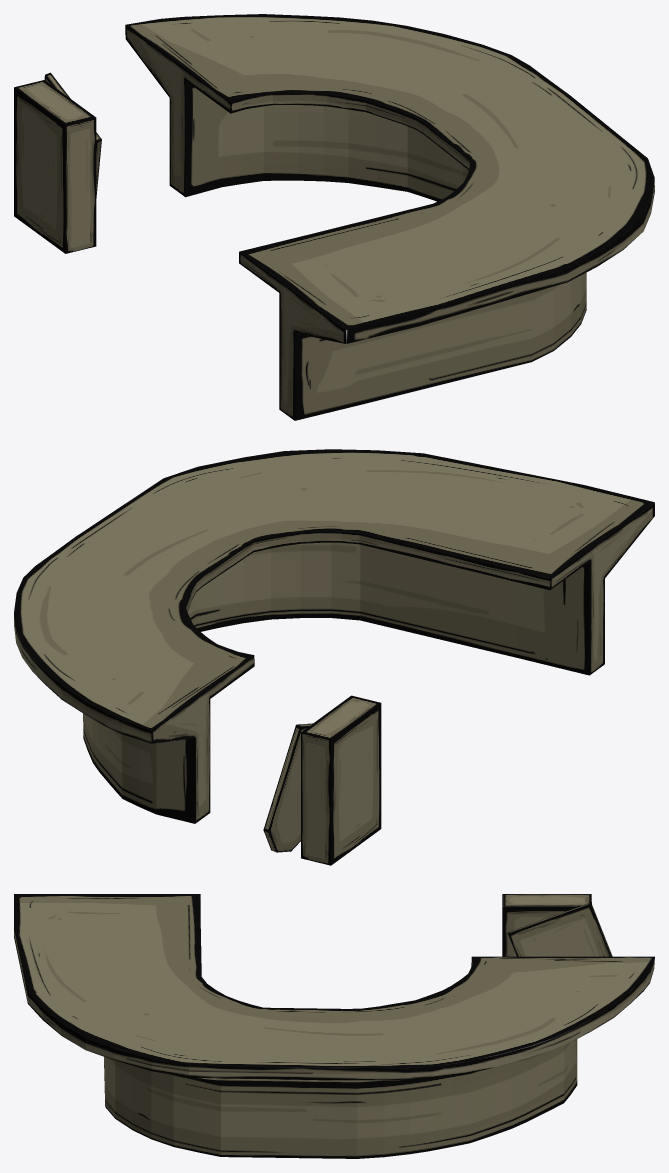
File: desk.fbx
3 renders of one model, top to bottom at view 1: azimuth 30°, elevation 25°; view 2: azimuth 150°, elevation 25°; view 3: azimuth 270°, elevation 25°, orthographic. The views are drawn at different scales.
Visible parts, largest first — view 1: Circle; view 2: Circle; view 3: Circle.
Boxes of the visible parts, x1,y1,x2,y2 form: Circle: (14,14,654,420); Circle: (14,449,654,865); Circle: (14,894,654,1158).
Bounding box in the file's own units: 681 × 220 × 1059.
